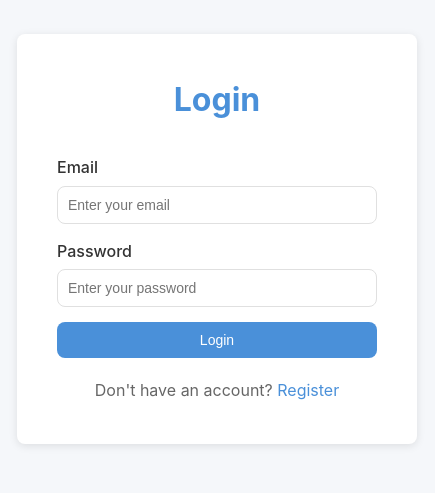
Login › should show error on failed login
Type "test@example.com" into the field labelled "Email" at (217, 205), box [57,186,377,224]
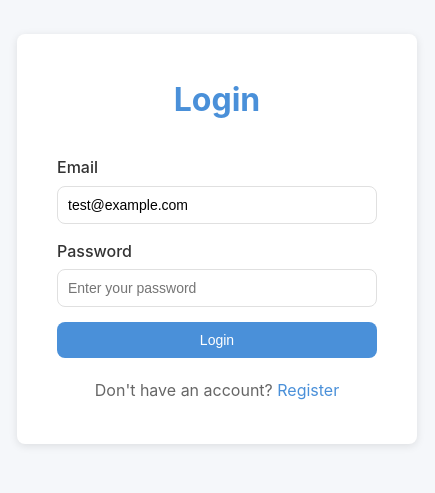
Type "wrongpassword" into the password field labelled "Password" at (217, 288), box [57,269,377,307]
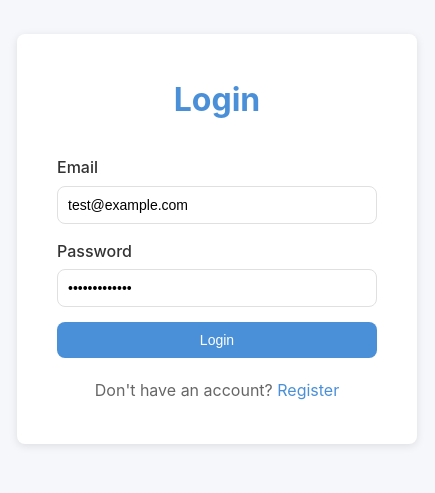
Click the button "Login" at (217, 340), box [57,322,377,358]
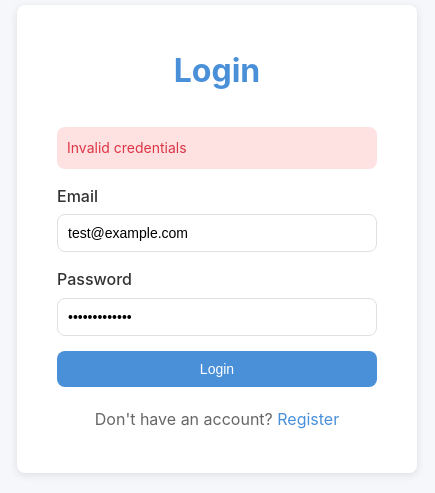
expect the text "Invalid credentials" is shown: met, box [57,126,377,169]
